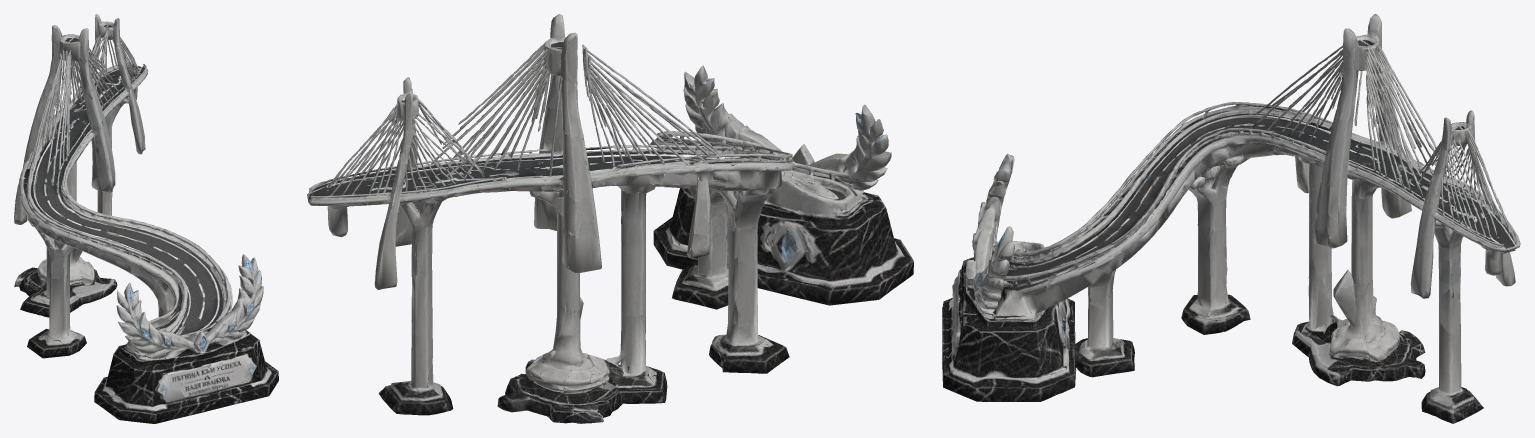
File: award-nadya.glb
3 renders of one model, left to right at view 1: azimuth 30°, elevation 25°; view 2: azimuth 150°, elevation 25°; view 3: azimuth 270°, elevation 25°, orthographic. The views are drawn at different scales.
Visible parts, largest first — view 1: Mesh_0; view 2: Mesh_0; view 3: Mesh_0.
Part boxes in pixels (<box>): Mesh_0: <box>14,14,278,423</box>; Mesh_0: <box>307,14,913,423</box>; Mesh_0: <box>942,14,1520,423</box>.
Size of the model in its own units: 1.14 by 1.25 by 1.9.
Materials: 1 (1 with a texture image).
